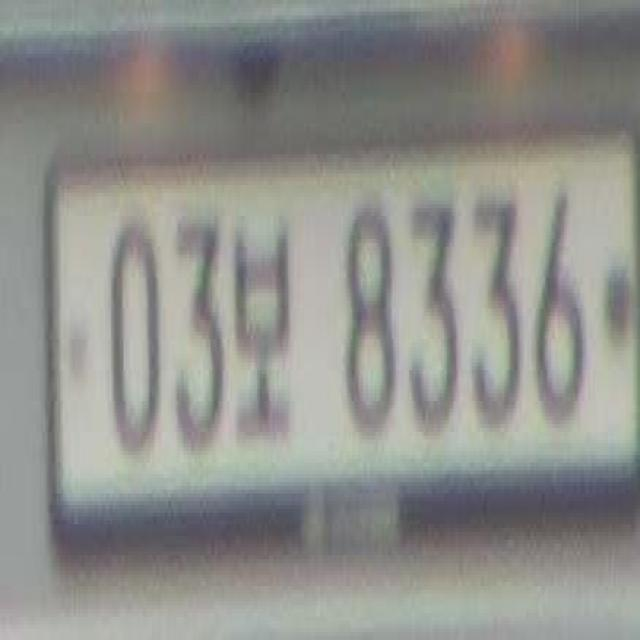illegal_plate: (48, 129, 640, 546)
